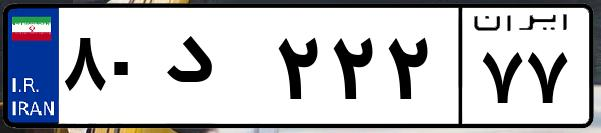0: (110, 28, 158, 98)
2: (270, 28, 330, 110), (385, 28, 445, 110), (330, 28, 385, 110)
7: (475, 38, 525, 113), (525, 38, 570, 115)
8: (57, 26, 110, 100)
د: (158, 20, 270, 120)
